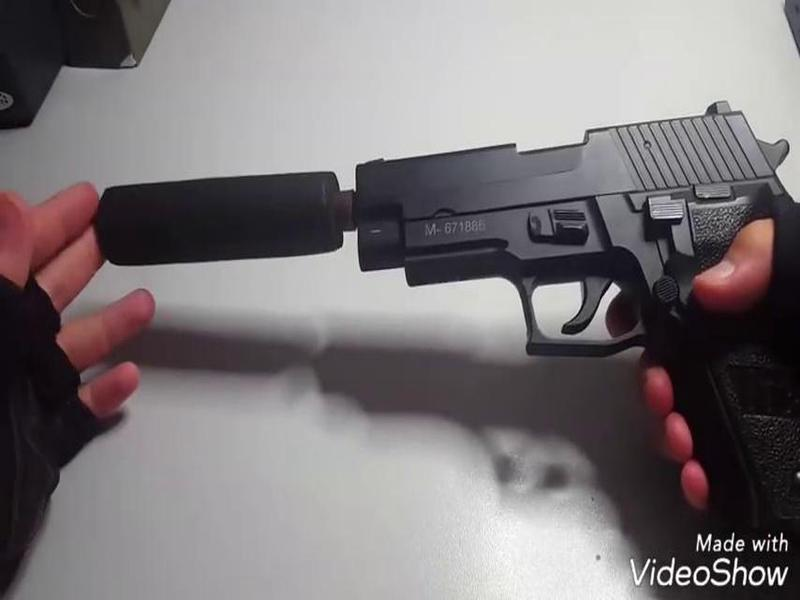Pistola: (348, 102, 799, 526)
